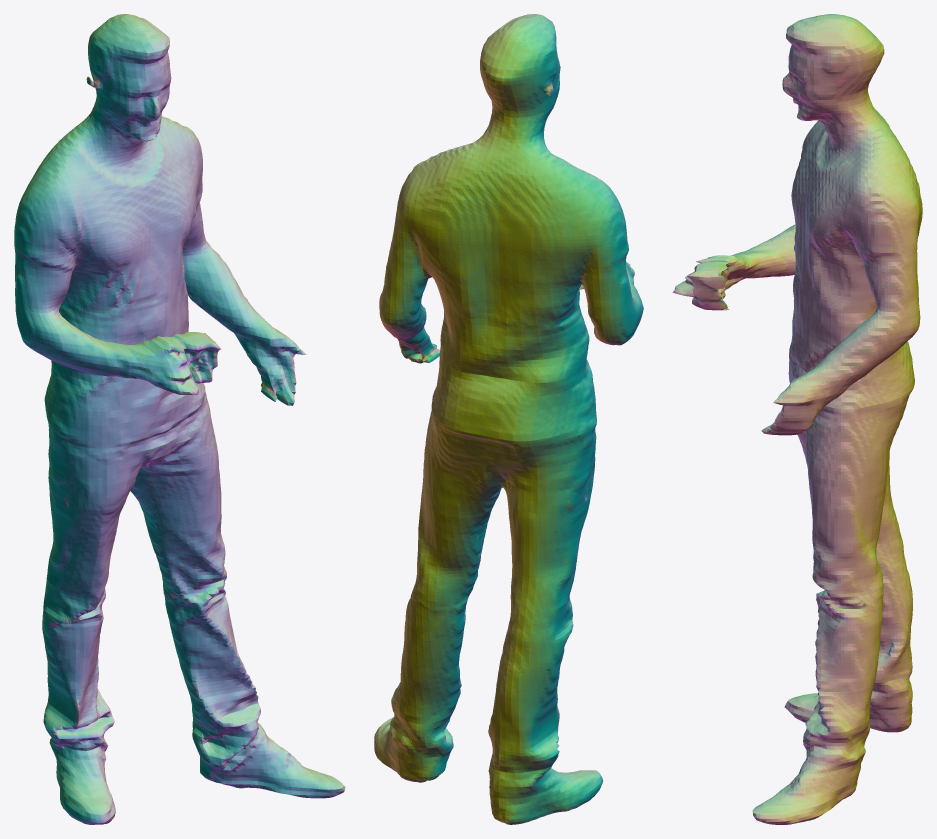
Rendered from test_avatar_output.glb.
3 renders of one model, left to right at view 1: azimuth 30°, elevation 25°; view 2: azimuth 150°, elevation 25°; view 3: azimuth 270°, elevation 25°, orthographic. The views are drawn at different scales.
Parts seen in each view (by area): view 1: result_person_256.obj; view 2: result_person_256.obj; view 3: result_person_256.obj.
Boxes of the visible parts, x1=… form: result_person_256.obj: x1=14, y1=14, x2=345, y2=824; result_person_256.obj: x1=374, y1=14, x2=643, y2=824; result_person_256.obj: x1=672, y1=14, x2=922, y2=824.
Size of the model in its own units: 0.7101 by 1.88 by 0.582.
